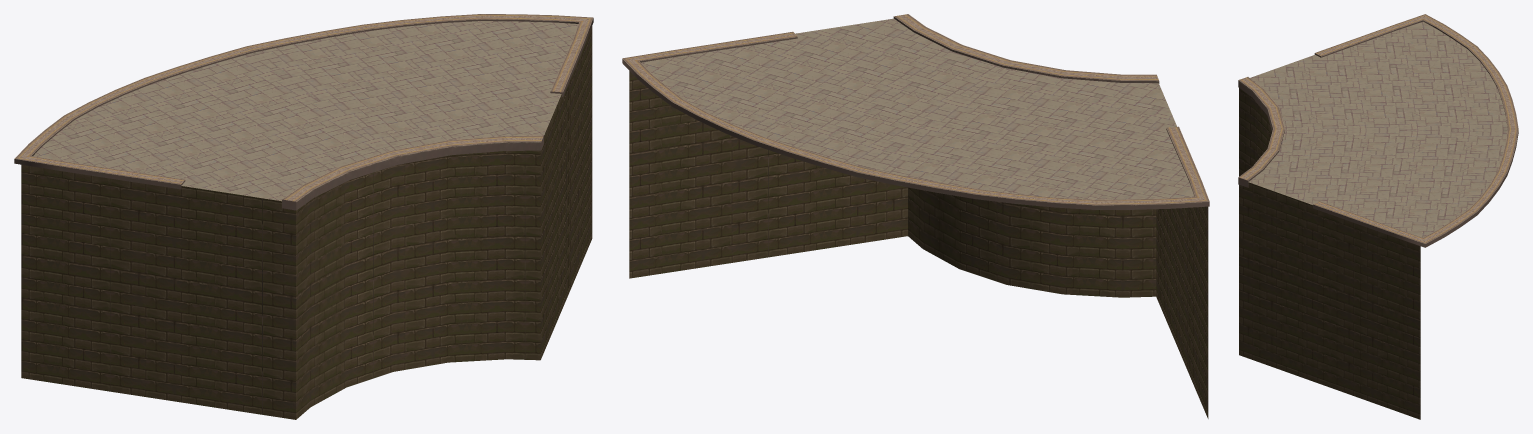
File: fb_jjc_dm_03.FBX
The picture shows the model from 3 angles, left to right: view 1: azimuth 30°, elevation 25°; view 2: azimuth 150°, elevation 25°; view 3: azimuth 270°, elevation 25°; orthographic projection. The views are drawn at different scales.
Visible parts, largest first — view 1: fb_jjc_dimian_03_c, fb_jjc_dimian_03_b, fb_jjc_dimian_03_a; view 2: fb_jjc_dimian_03_c, fb_jjc_dimian_03_b, fb_jjc_dimian_03_a; view 3: fb_jjc_dimian_03_b, fb_jjc_dimian_03_c, fb_jjc_dimian_03_a.
Boxes of the visible parts, <box> form: fb_jjc_dimian_03_c: <box>21,26,592,419</box>; fb_jjc_dimian_03_b: <box>33,21,578,201</box>; fb_jjc_dimian_03_a: <box>14,14,593,210</box>; fb_jjc_dimian_03_c: <box>629,71,1208,418</box>; fb_jjc_dimian_03_b: <box>641,18,1194,199</box>; fb_jjc_dimian_03_a: <box>622,14,1209,209</box>; fb_jjc_dimian_03_b: <box>1248,21,1507,237</box>; fb_jjc_dimian_03_c: <box>1239,88,1420,419</box>; fb_jjc_dimian_03_a: <box>1238,14,1518,247</box>.
Size of the model in its own units: 6403 by 2309 by 3298.
Materials: 3 (3 with a texture image).
